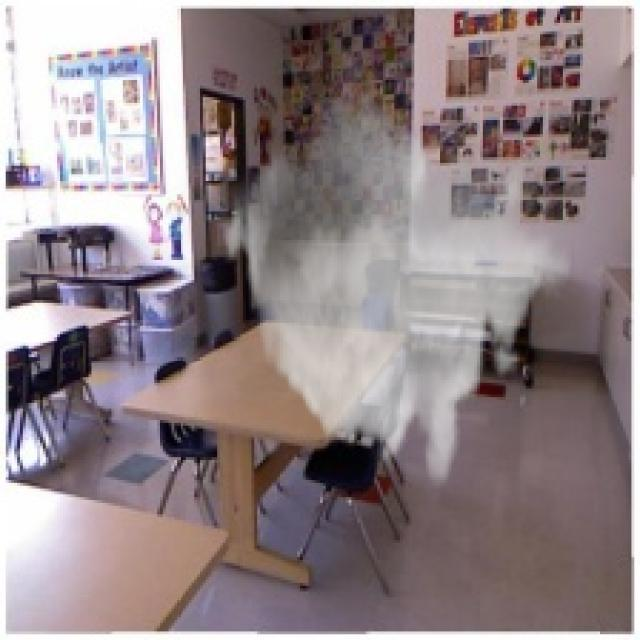Smoke: (220, 82, 574, 492)
